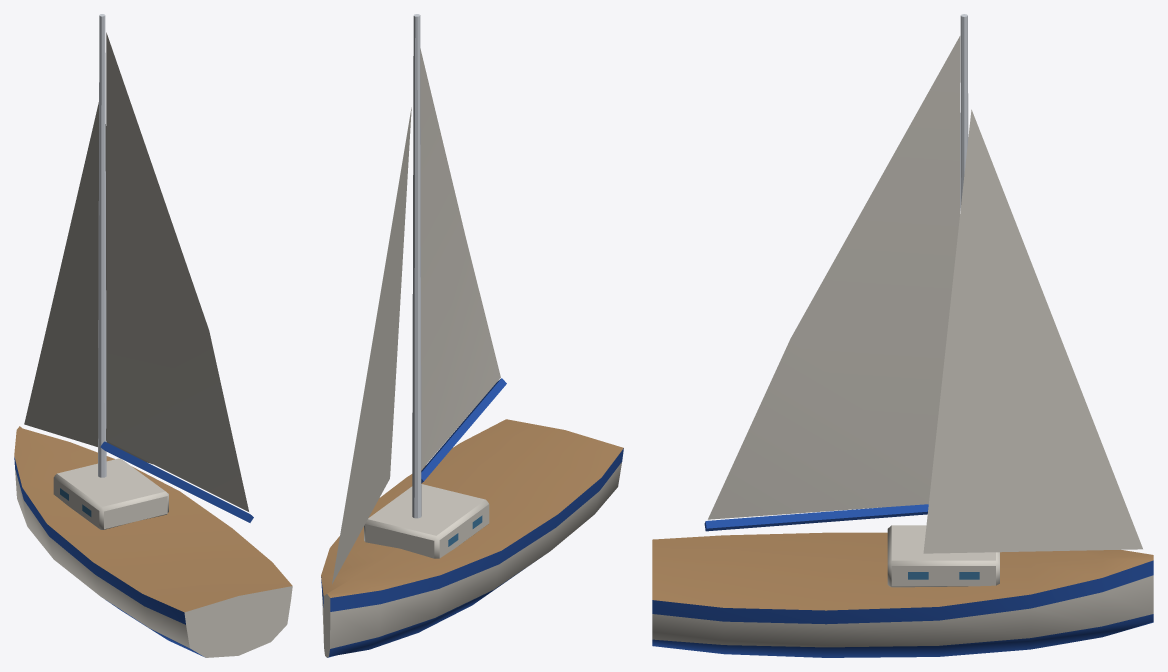
Rendered from sailboat.glb.
3 views of the same model, side by side, from view 1: azimuth 30°, elevation 25°; view 2: azimuth 150°, elevation 25°; view 3: azimuth 270°, elevation 25° (orthographic). The views are drawn at different scales.
Visible parts, largest first — view 1: boat; view 2: boat; view 3: boat.
Part boxes in pixels (x1,y1,x2,y2): boat: (14,14,292,657); boat: (321,14,623,657); boat: (652,14,1153,657).
Size of the model in its own units: 1.8 by 6.8 by 4.9.
